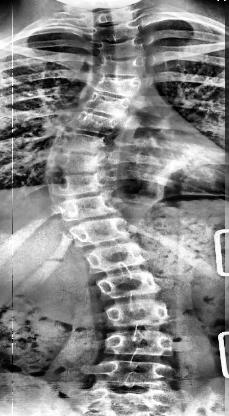Vertebrae: (100, 355, 174, 395), (102, 299, 176, 335), (63, 106, 128, 146), (100, 328, 176, 362), (69, 214, 135, 252), (97, 272, 165, 304), (82, 241, 146, 275), (50, 150, 114, 180), (46, 174, 106, 202), (59, 196, 117, 224), (90, 76, 148, 102), (96, 37, 148, 63), (84, 92, 134, 119), (58, 134, 112, 158), (82, 6, 138, 29), (93, 58, 151, 78), (92, 21, 142, 43)
